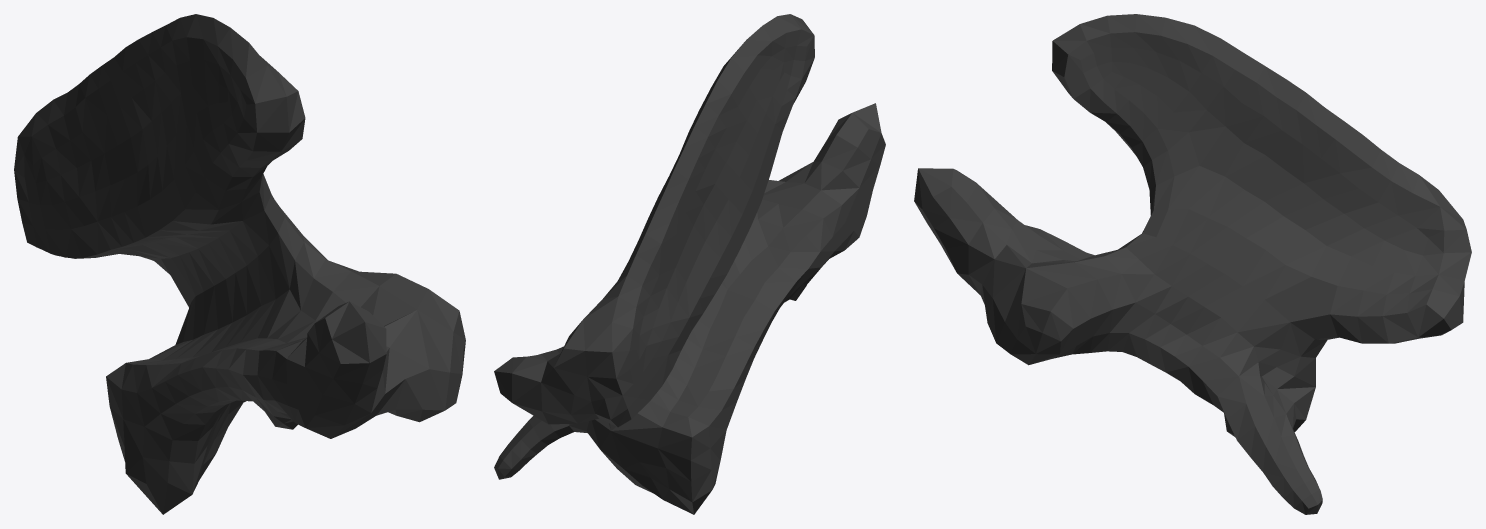
The model's file is C2_Axis.glb.
3 renders of one model, left to right at view 1: azimuth 30°, elevation 25°; view 2: azimuth 150°, elevation 25°; view 3: azimuth 270°, elevation 25°, orthographic. The views are drawn at different scales.
Parts seen in each view (by area): view 1: C2_Axis; view 2: C2_Axis; view 3: C2_Axis.
Part boxes in pixels (x1,y1,x2,y2): C2_Axis: [14, 14, 465, 514]; C2_Axis: [494, 14, 885, 514]; C2_Axis: [914, 14, 1471, 514].
Bounding box in the file's own units: 0.00692 × 0.0149 × 0.0173.
1 material, 1 textured.
